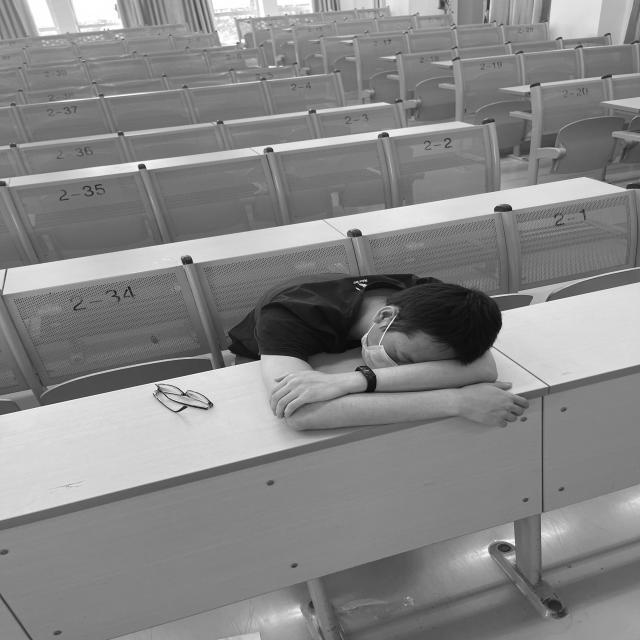sleep: (223, 273, 524, 430)
